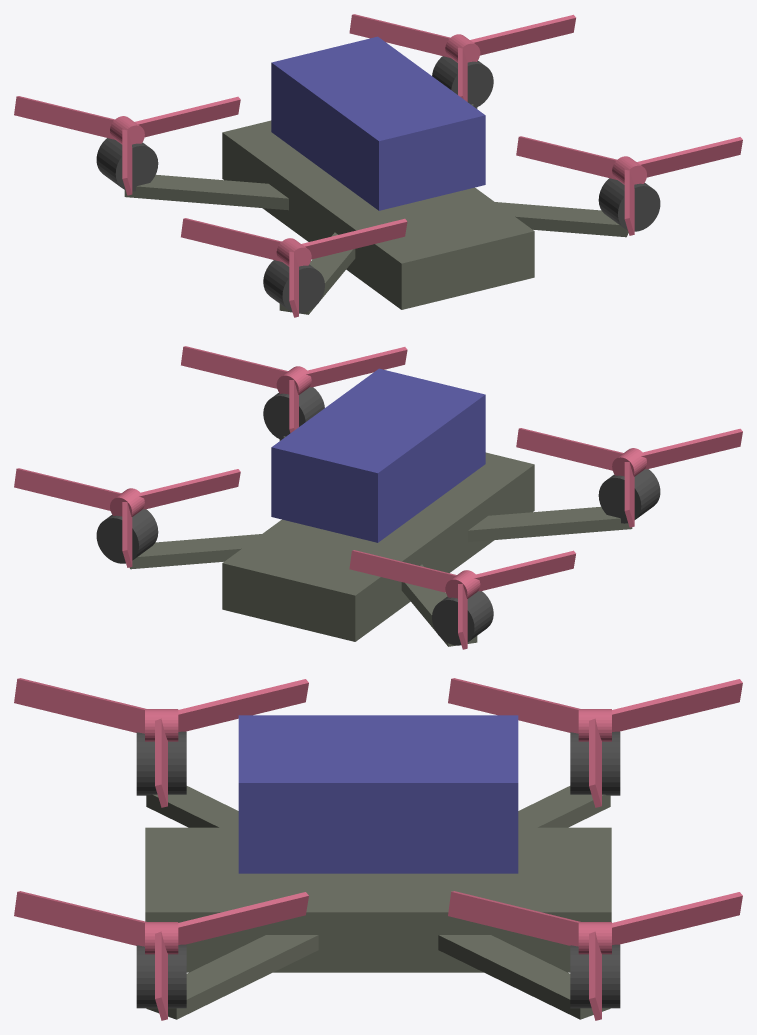
File: AttoFPV Photon.glb
The picture shows the model from 3 angles, top to bottom: view 1: azimuth 30°, elevation 25°; view 2: azimuth 150°, elevation 25°; view 3: azimuth 270°, elevation 25°; orthographic projection. The views are drawn at different scales.
Visible parts, largest first — view 1: battery, frame_body, prop_3, prop_0, prop_2, prop_1, arm_3, arm_0, motor_0, motor_2, motor_3, motor_1 (+1 smaller); view 2: battery, frame_body, prop_1, prop_2, prop_3, prop_0, arm_2, arm_1, motor_3, motor_1, motor_2, motor_0 (+1 smaller); view 3: battery, frame_body, prop_1, prop_0, prop_2, prop_3, arm_1, arm_0, arm_2, arm_3, motor_0, motor_1 (+2 smaller).
Part boxes in pixels (<box>): battery: <box>271,36,485,210</box>; frame_body: <box>222,120,534,309</box>; prop_3: <box>14,96,240,195</box>; prop_0: <box>516,136,742,235</box>; prop_2: <box>181,218,407,317</box>; prop_1: <box>349,14,575,101</box>; arm_3: <box>124,174,288,210</box>; arm_0: <box>495,202,628,237</box>; motor_0: <box>598,178,660,231</box>; motor_2: <box>263,260,324,313</box>; motor_3: <box>96,138,158,191</box>; motor_1: <box>432,56,493,107</box>; battery: <box>271,368,485,542</box>; frame_body: <box>222,452,534,641</box>; prop_1: <box>14,468,240,567</box>; prop_2: <box>516,428,742,527</box>; prop_3: <box>349,550,575,649</box>; prop_0: <box>181,346,407,432</box>; arm_2: <box>468,506,632,542</box>; arm_1: <box>129,534,261,569</box>; motor_3: <box>432,591,493,645</box>; motor_1: <box>96,509,158,563</box>; motor_2: <box>598,469,660,523</box>; motor_0: <box>263,387,324,439</box>; battery: <box>238,715,518,873</box>; frame_body: <box>145,827,611,972</box>; prop_1: <box>448,891,742,1020</box>; prop_0: <box>14,891,308,1020</box>; prop_2: <box>14,678,308,807</box>; prop_3: <box>448,678,742,807</box>; arm_1: <box>438,935,610,1019</box>; arm_0: <box>146,935,318,1019</box>; arm_2: <box>146,786,238,827</box>; arm_3: <box>518,786,610,827</box>; motor_0: <box>136,944,186,1008</box>; motor_1: <box>570,944,620,1008</box>.
Bounding box in the file's own units: 0.2279 × 0.06 × 0.2187.
